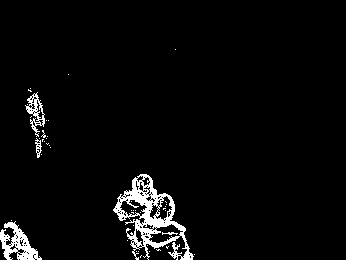person: (120, 169, 152, 260), (19, 86, 53, 164)
